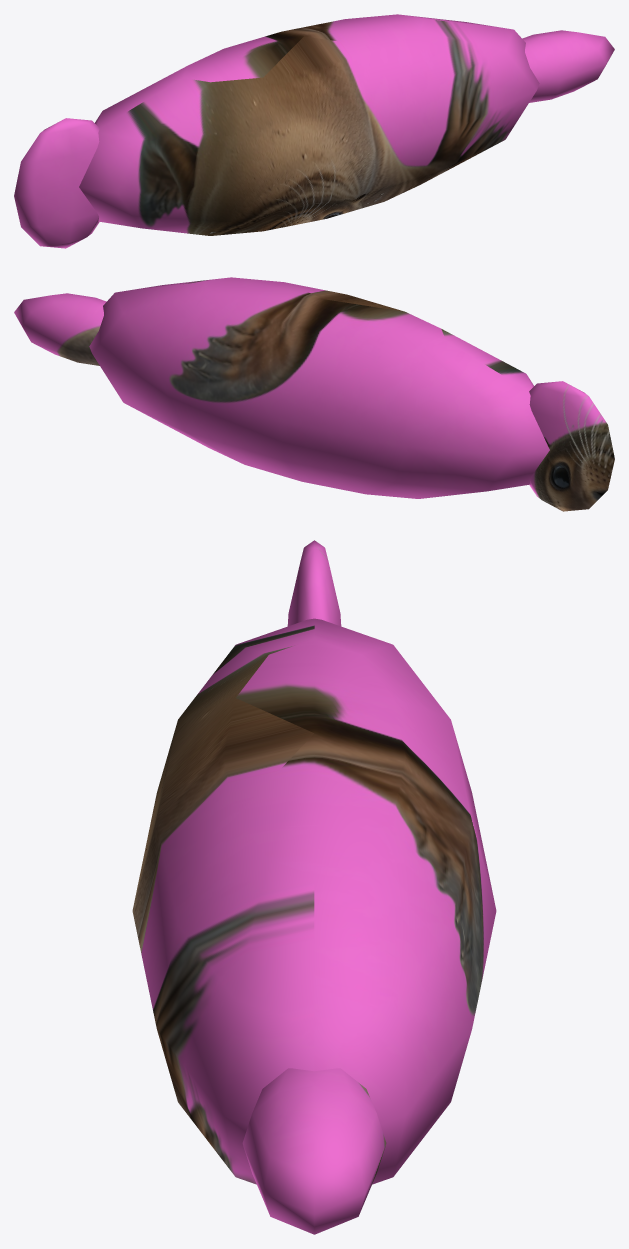
The model's file is sealion.glb.
3 renders of one model, top to bottom at view 1: azimuth 30°, elevation 25°; view 2: azimuth 150°, elevation 25°; view 3: azimuth 270°, elevation 25°, orthographic. The views are drawn at different scales.
Parts seen in each view (by area): view 1: sealion_body; view 2: sealion_body; view 3: sealion_body.
Boxes of the visible parts, <box> form: sealion_body: <box>14,14,614,248</box>; sealion_body: <box>14,277,614,511</box>; sealion_body: <box>132,540,496,1234</box>.
Bounding box in the file's own units: 4.25 × 1.2 × 1.11.
Materials: 1 (1 with a texture image).
